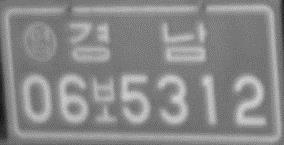0: (21, 72, 54, 125)
1: (199, 72, 220, 127)
2: (232, 73, 268, 126)
3: (156, 72, 188, 126)
5: (119, 73, 151, 125)
6: (56, 73, 89, 123)
경남_D: (67, 18, 209, 65)
보: (89, 74, 119, 123)
영: (23, 21, 57, 63)
